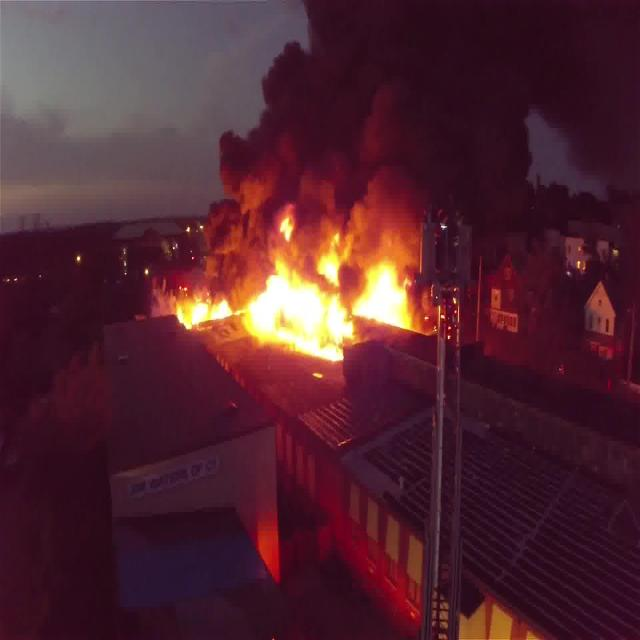Fire: (170, 218, 412, 350)
Smoke: (156, 0, 533, 303)
